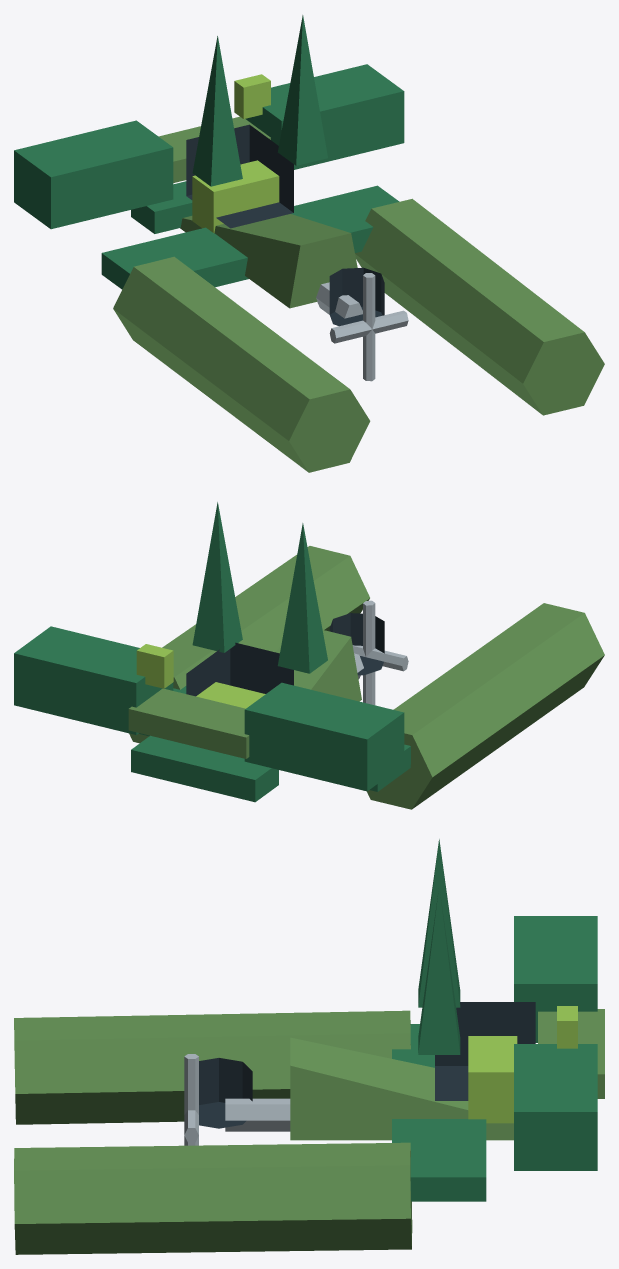
File: aerial-battleship.obj
3 views of the same model, one above another, from view 1: azimuth 30°, elevation 25°; view 2: azimuth 150°, elevation 25°; view 3: azimuth 270°, elevation 25° (orthographic). The views are drawn at different scales.
Visible parts, largest first — view 1: air; view 2: air; view 3: air.
Boxes of the visible parts, x1,y1,x2,y2 form: air: [14, 15, 604, 472]; air: [14, 502, 604, 809]; air: [14, 839, 604, 1254].
Bounding box in the file's own units: 1.99 × 1.5 × 2.54.
